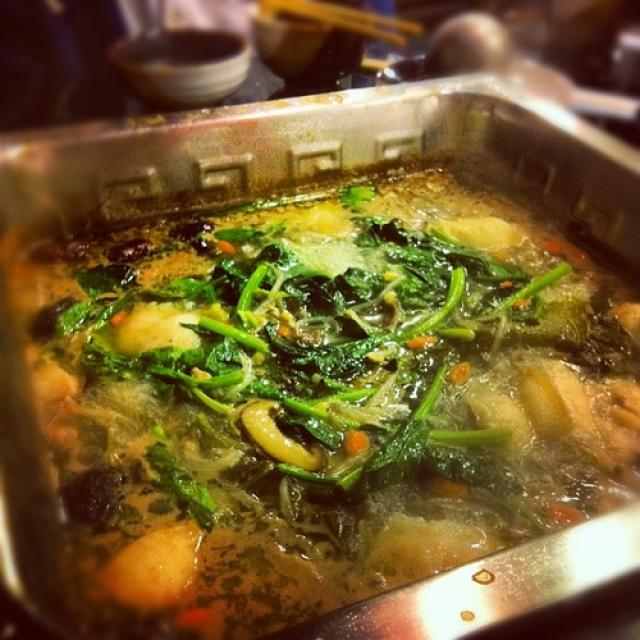汤锅炖物: (8, 61, 631, 624)
